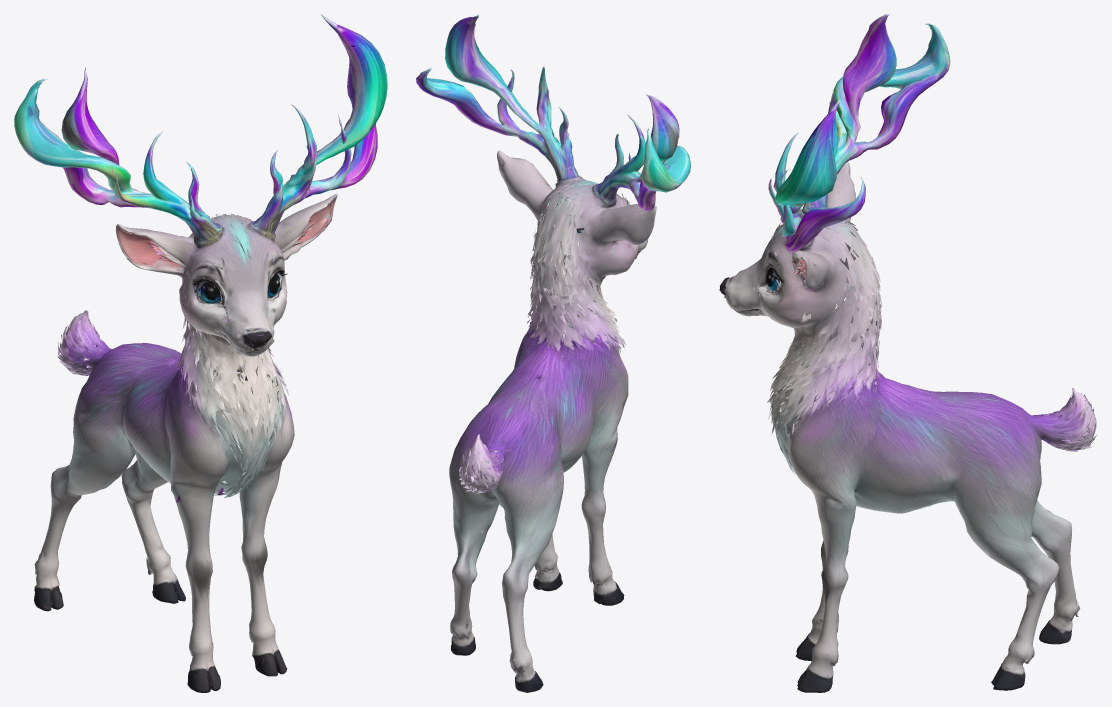
Rendered from aurorastag.glb.
3 renders of one model, left to right at view 1: azimuth 30°, elevation 25°; view 2: azimuth 150°, elevation 25°; view 3: azimuth 270°, elevation 25°, orthographic. The views are drawn at different scales.
Visible parts, largest first — view 1: aurorastag; view 2: aurorastag; view 3: aurorastag.
Boxes of the visible parts, x1,y1,x2,y2 form: aurorastag: [14, 14, 387, 692]; aurorastag: [416, 14, 690, 692]; aurorastag: [719, 14, 1097, 692].
Size of the model in its own units: 0.7438 by 1.4 by 0.7704.
1 material, 1 textured.
